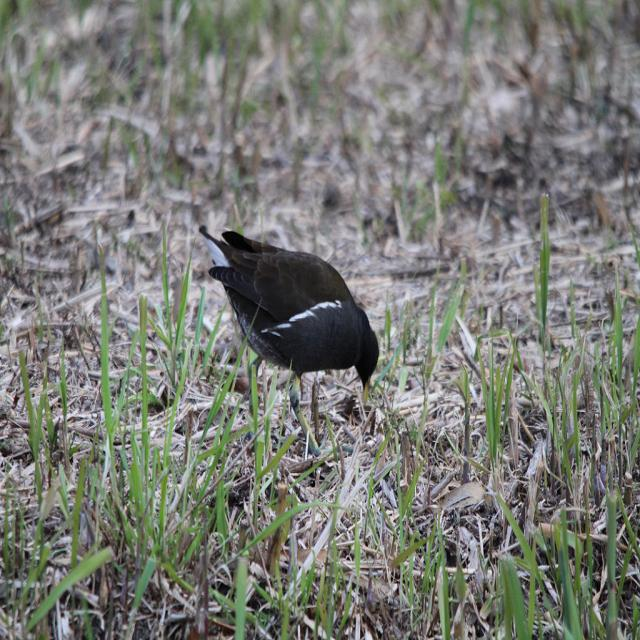bird: (202, 229, 382, 386)
